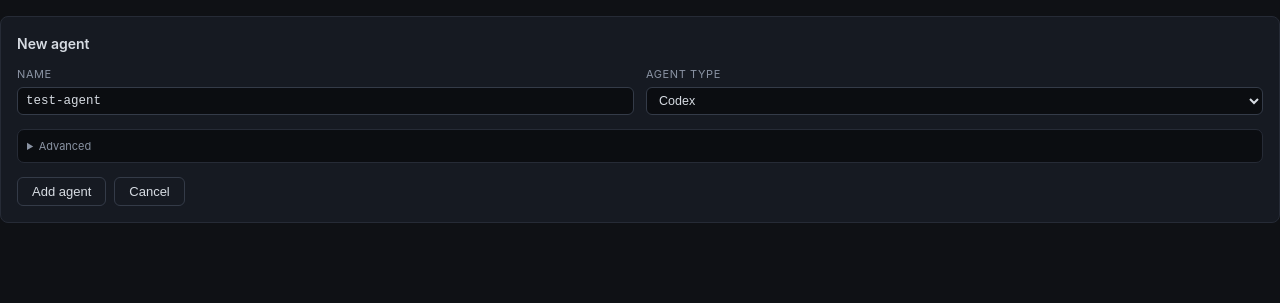
Test: AgentForm environment validation › keeps server-side error handling functional
Step 1. Click the button "Add agent" → (62, 192), box x1=17 y1=177 x2=106 y2=206
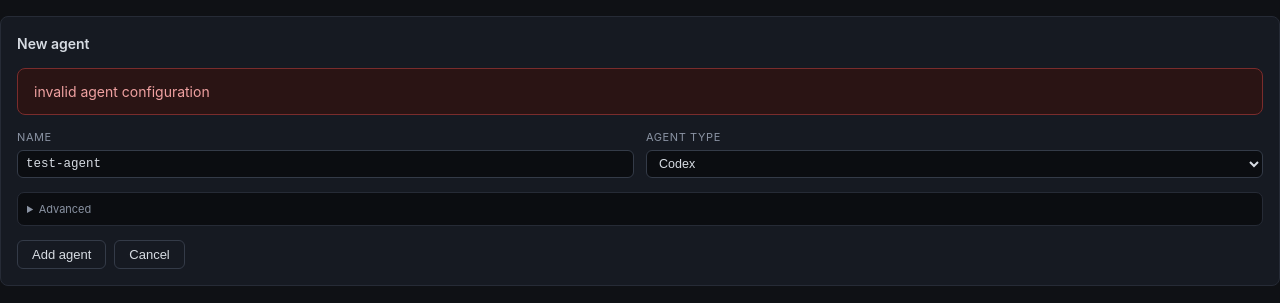
Expected: the button "Add agent" is enabled, x1=17 y1=240 x2=106 y2=269
Now the message reads "invalid agent configuration", box x1=34 y1=83 x2=210 y2=100
